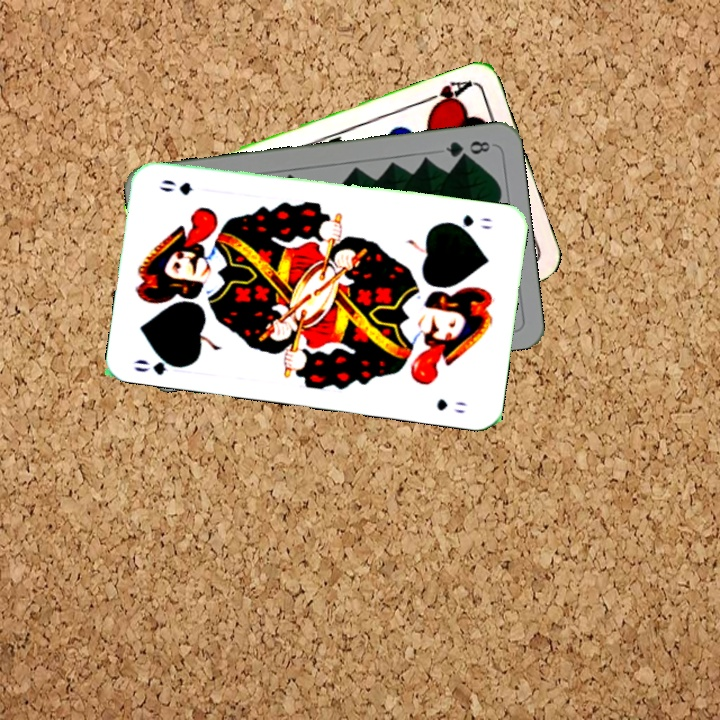G8: (441, 136, 496, 161)
GO: (130, 350, 189, 378), (442, 211, 494, 233)
HA: (417, 76, 475, 113)
